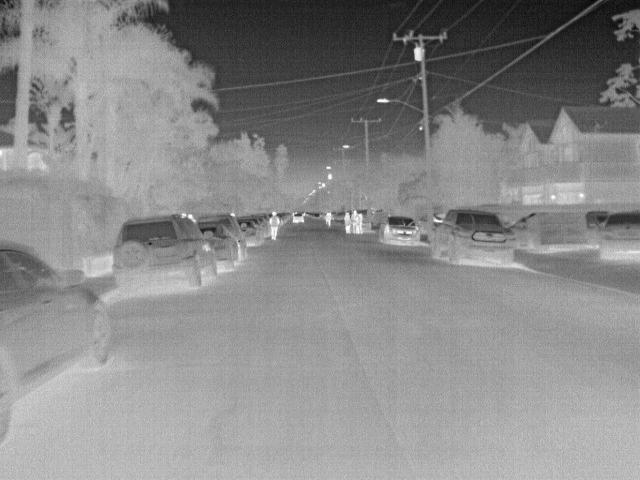car: (4, 239, 112, 442), (107, 214, 216, 288), (425, 207, 517, 266), (593, 210, 639, 265), (198, 221, 238, 270), (209, 213, 247, 259), (377, 214, 422, 246), (235, 218, 261, 246), (292, 210, 306, 224)
person: (268, 210, 283, 240), (349, 208, 362, 234), (342, 211, 356, 232), (323, 210, 335, 228)
